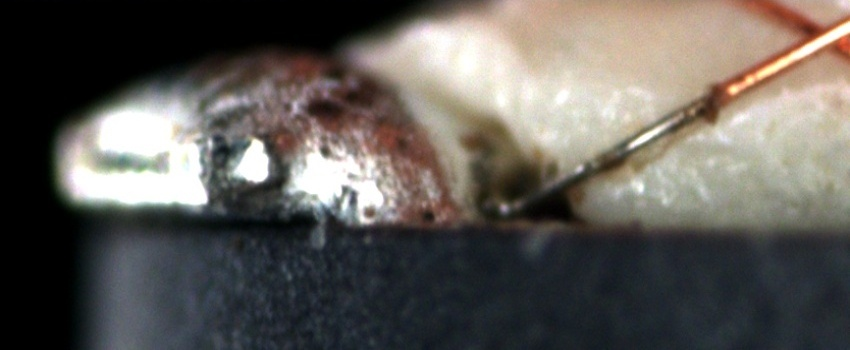CL: (781, 5, 845, 64)
DL: (723, 72, 849, 115)
TS: (503, 110, 692, 216)
